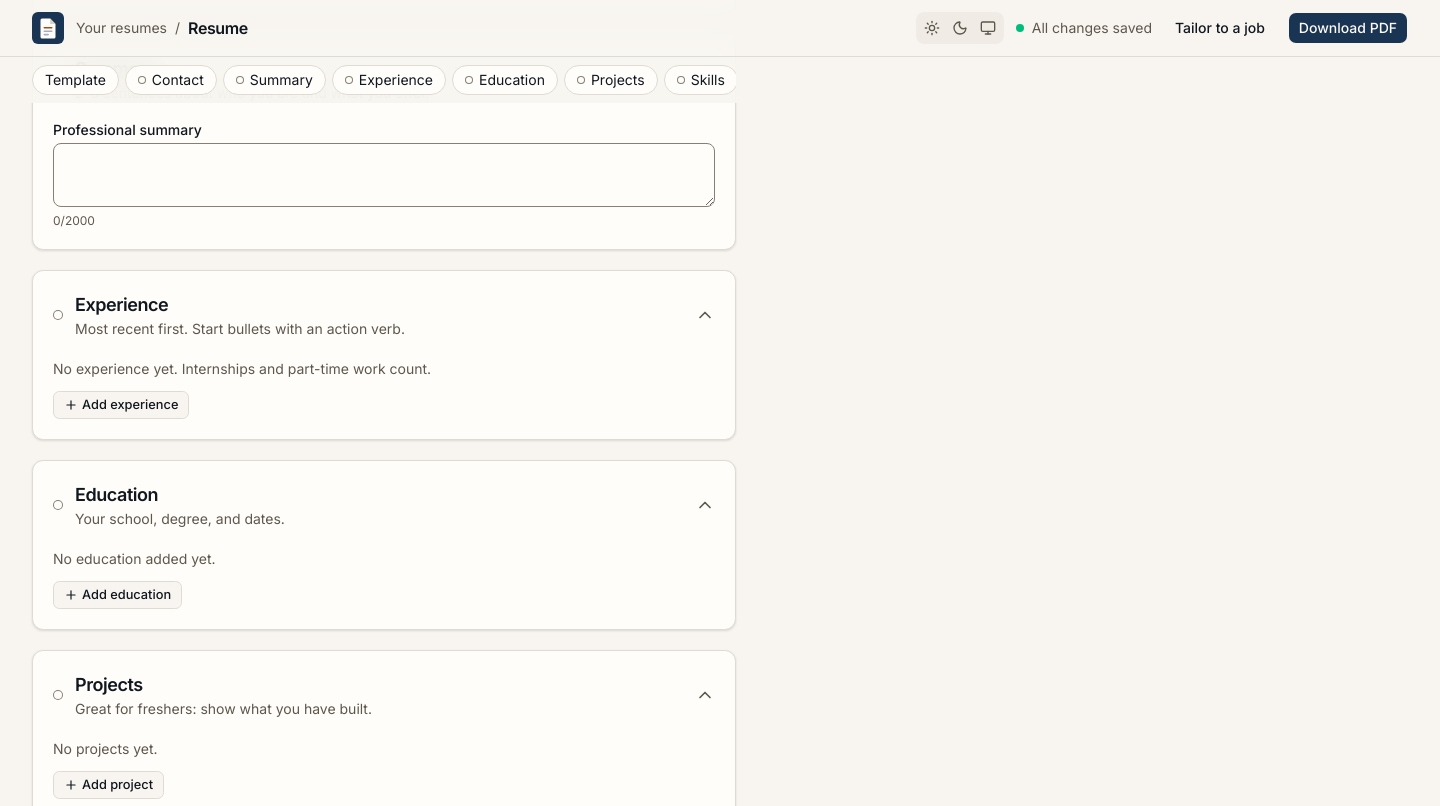
it: form controls after the component upgrade › the 'currently work here' checkbox toggles, and disables the end date
(page scrolled)
Step 1. Click the button "Add experience" → {"x": 121, "y": 405}, box left=53, top=391, right=189, bottom=419
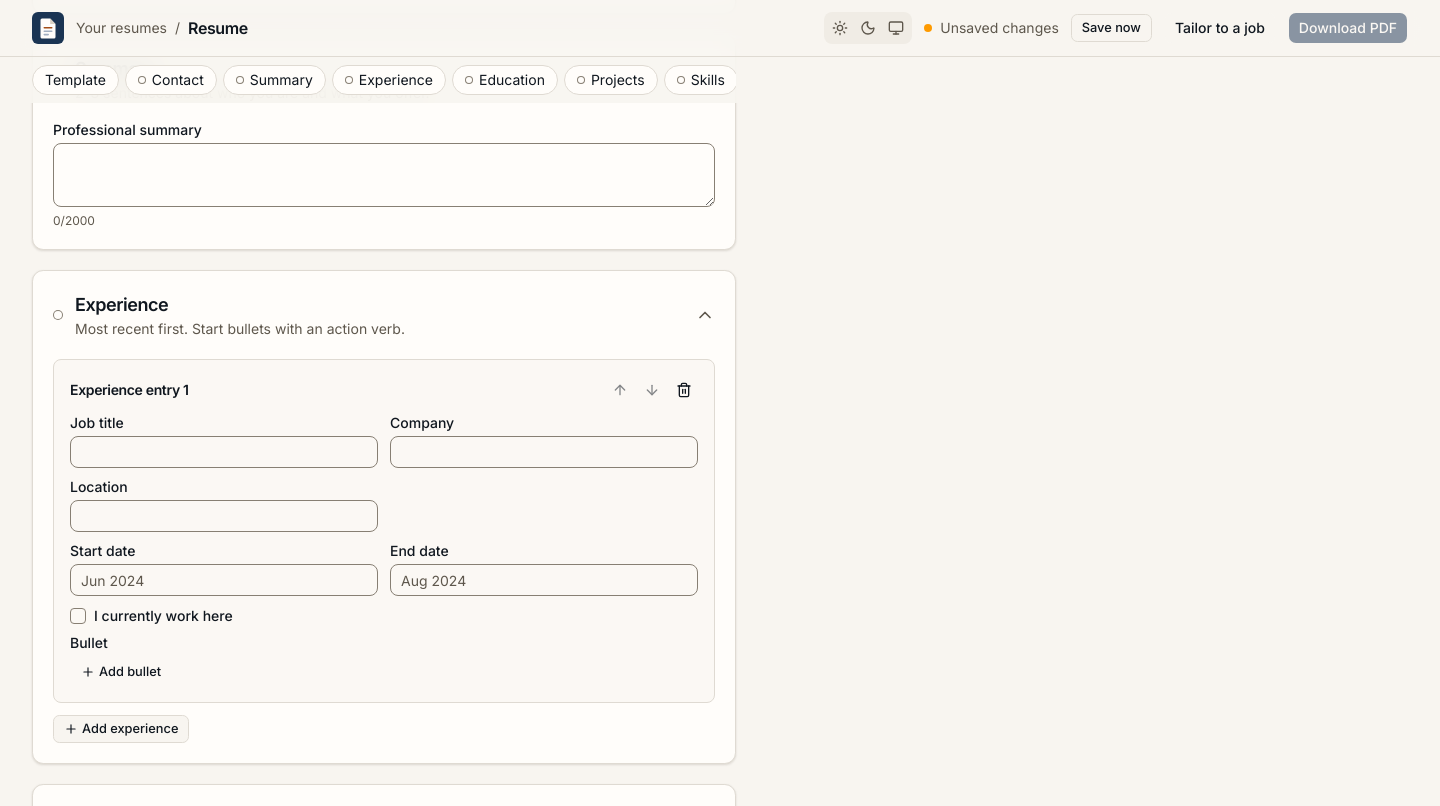
expect the field labelled "End date" is enabled: met, box left=390, top=564, right=698, bottom=596
Step 2. Click the checkbox named "currently work here" → {"x": 78, "y": 616}, box left=70, top=608, right=86, bottom=624
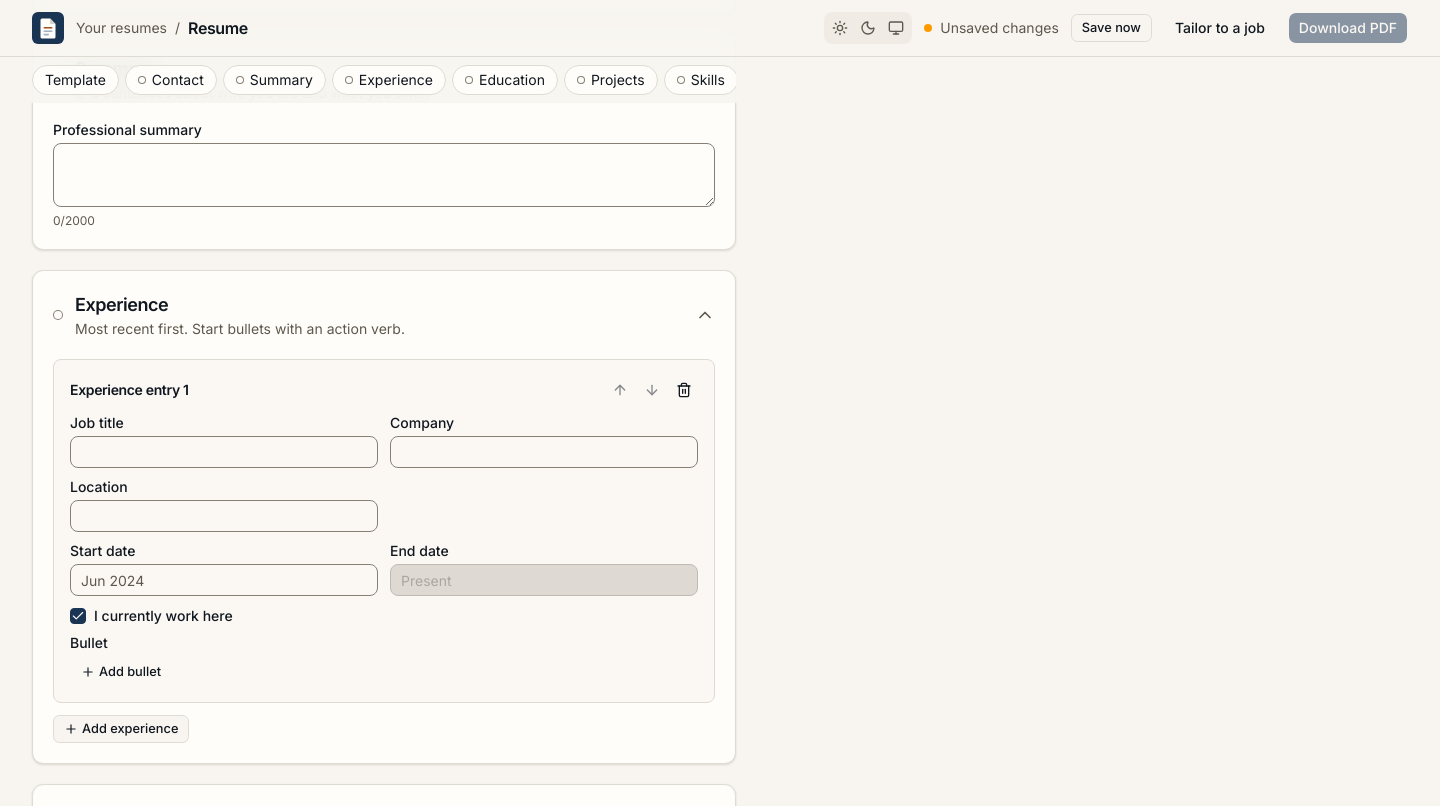
expect the field labelled "End date" is disabled: met, box left=390, top=564, right=698, bottom=596
Step 3. Click the checkbox named "currently work here" → {"x": 78, "y": 616}, box left=70, top=608, right=86, bottom=624
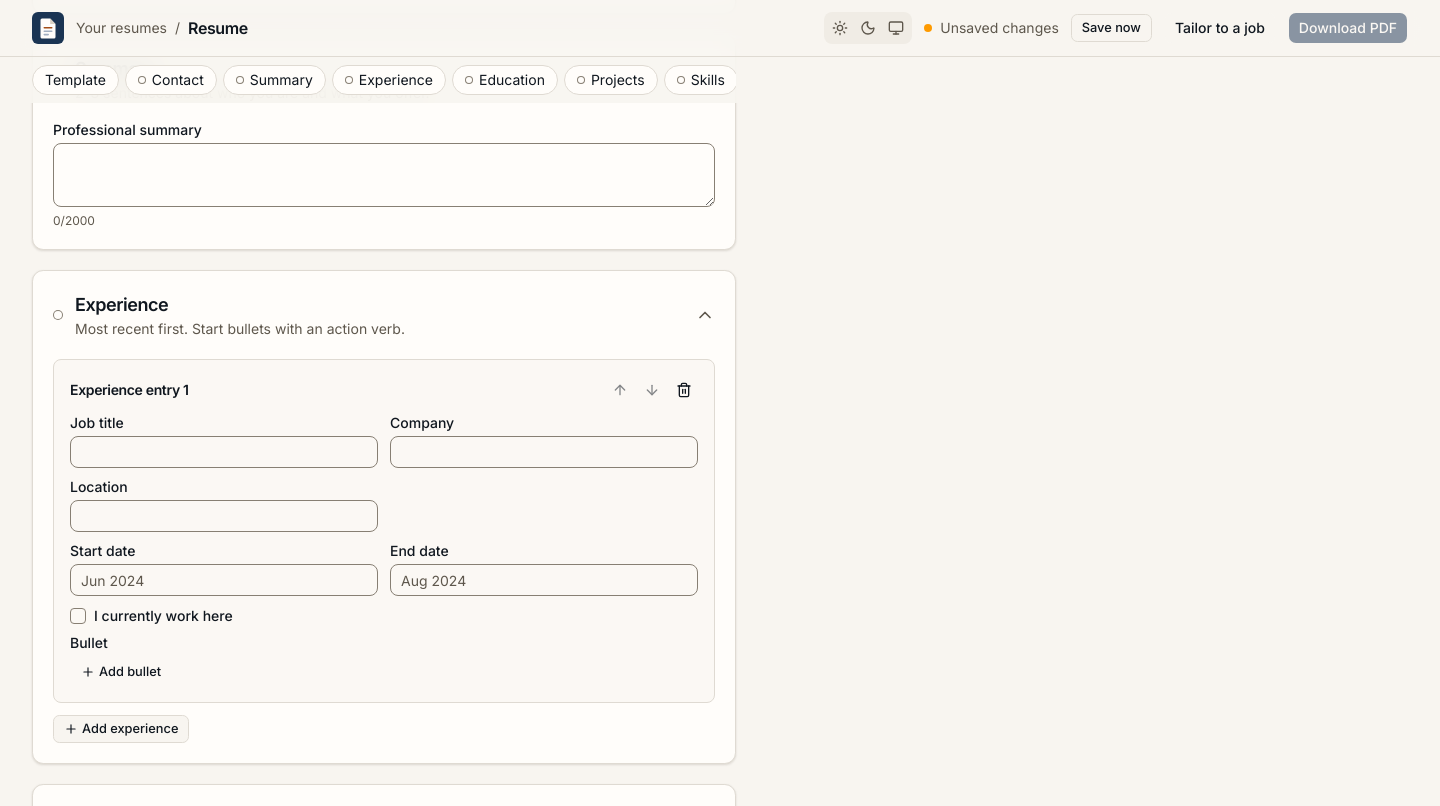
expect the field labelled "End date" is enabled: met, box left=390, top=564, right=698, bottom=596
